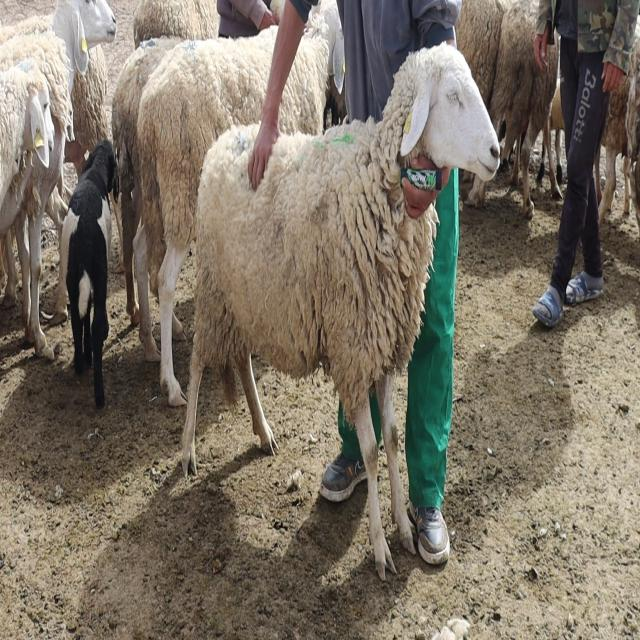Score_3: (182, 44, 499, 579)
